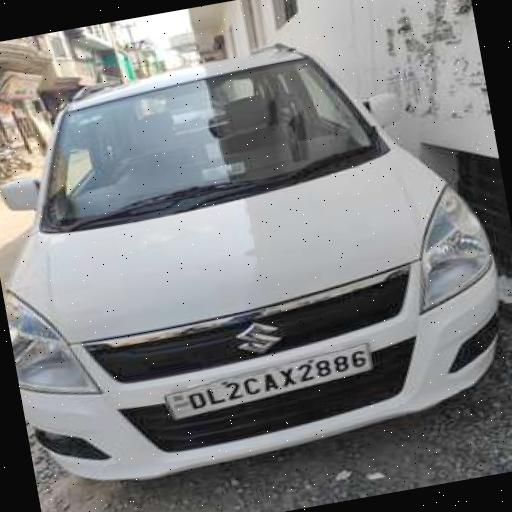license_plate`: (160, 341, 372, 420)
